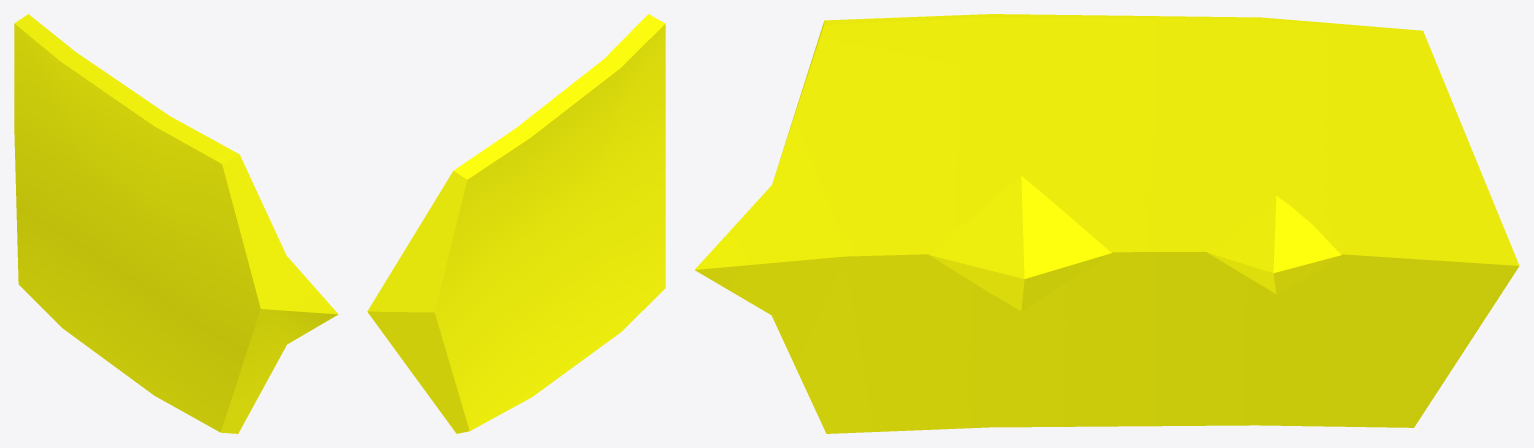
The model's file is ORC_Shield_D.glb.
The picture shows the model from 3 angles, left to right: view 1: azimuth 30°, elevation 25°; view 2: azimuth 150°, elevation 25°; view 3: azimuth 270°, elevation 25°; orthographic projection. The views are drawn at different scales.
Visible parts, largest first — view 1: ORC_Shield_D; view 2: ORC_Shield_D; view 3: ORC_Shield_D.
Boxes of the visible parts, <box> form: ORC_Shield_D: <box>14,14,338,433</box>; ORC_Shield_D: <box>367,14,665,433</box>; ORC_Shield_D: <box>695,14,1519,433</box>.
Bounding box in the file's own units: 0.2375 × 0.6661 × 1.21.
1 material, 1 textured.
